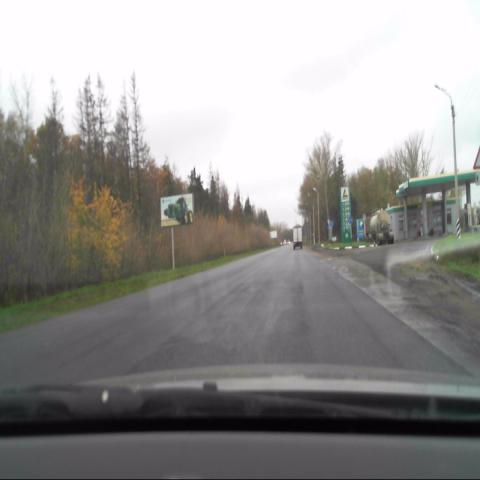4_2_3: (347, 214, 354, 225)
